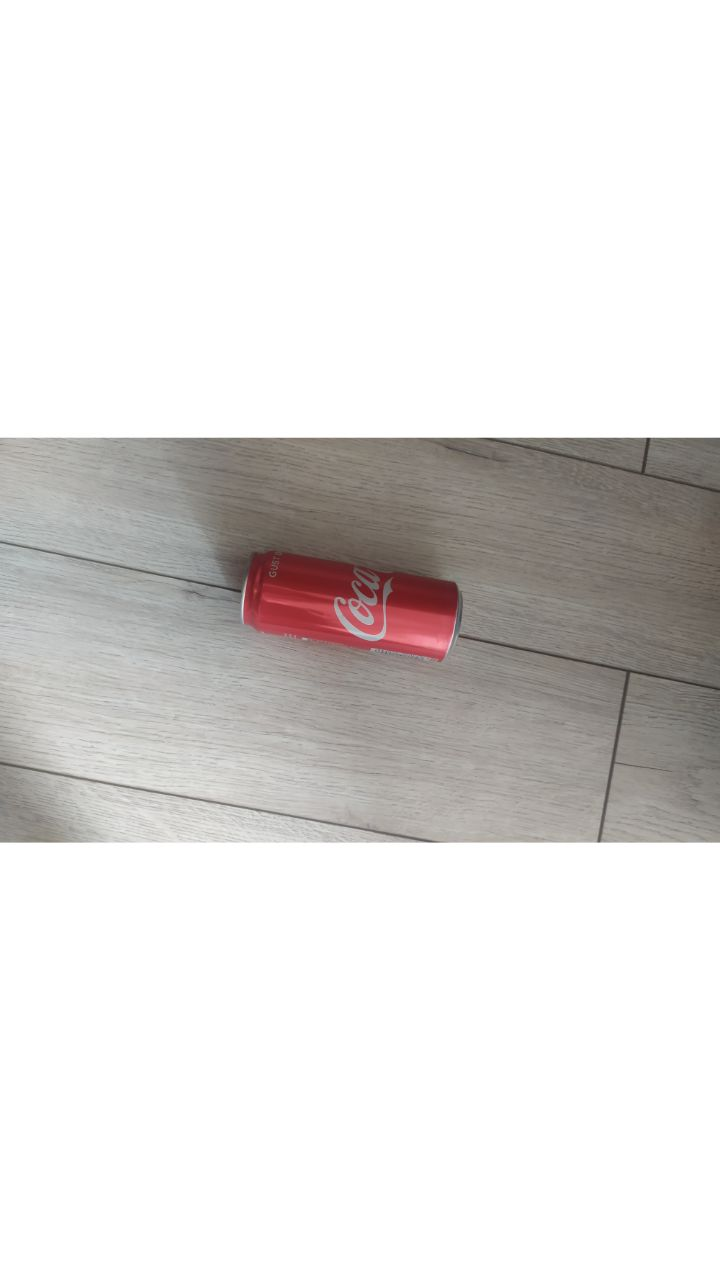Can: (237, 552, 468, 681)
